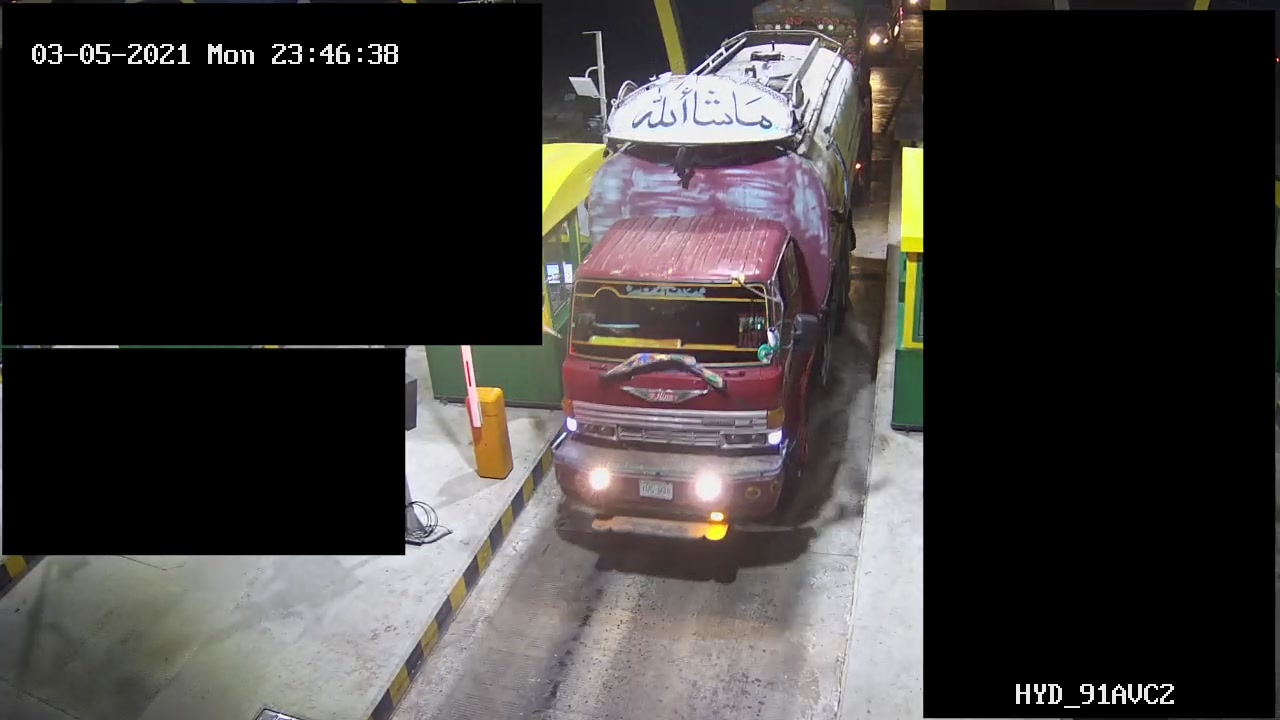F6: (542, 32, 873, 555)
